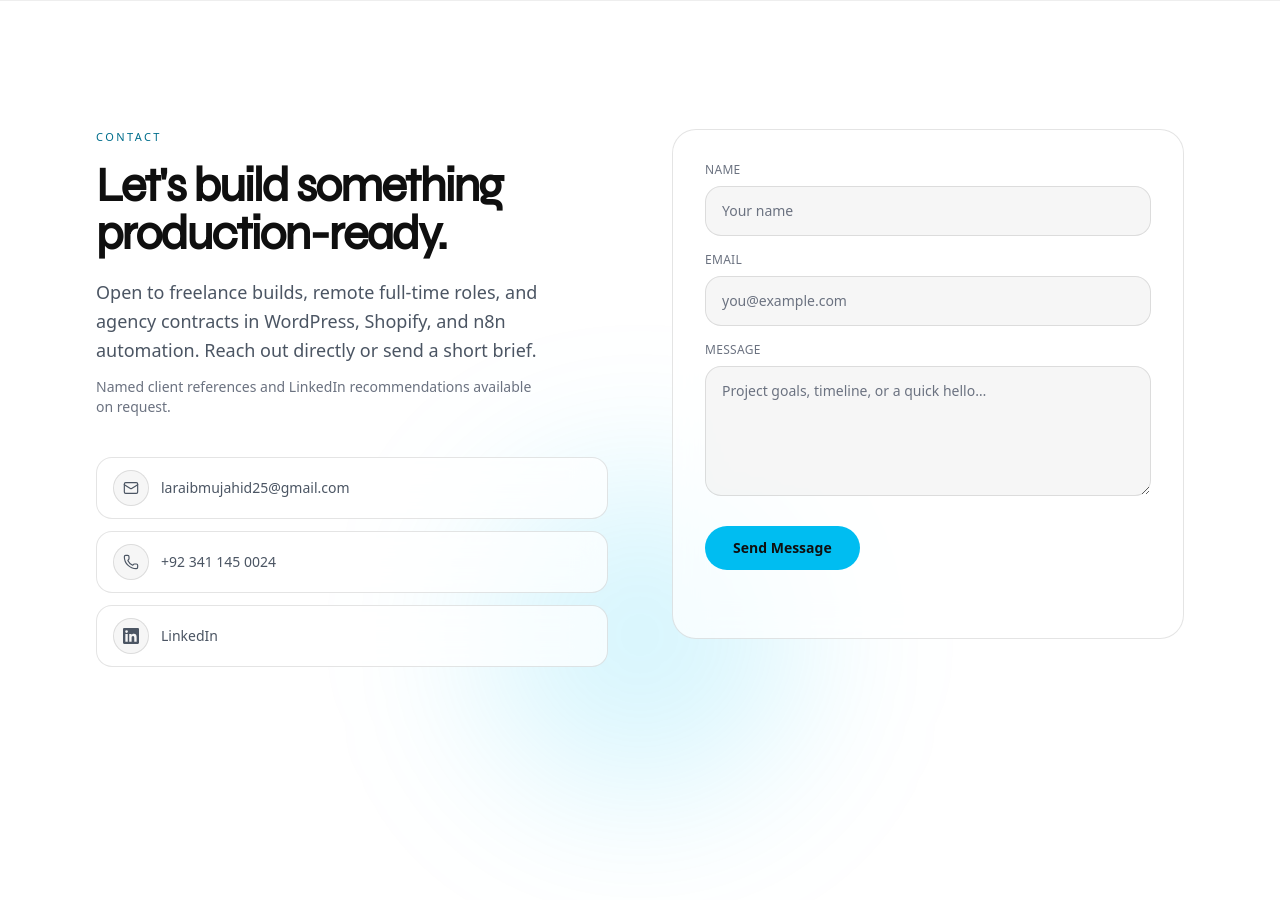
Test: Contact form › posts once and confirms success on a valid submission
Type "Laraib Mujahid" into the field labelled "Name" at (928, 211), box [705, 186, 1151, 236]
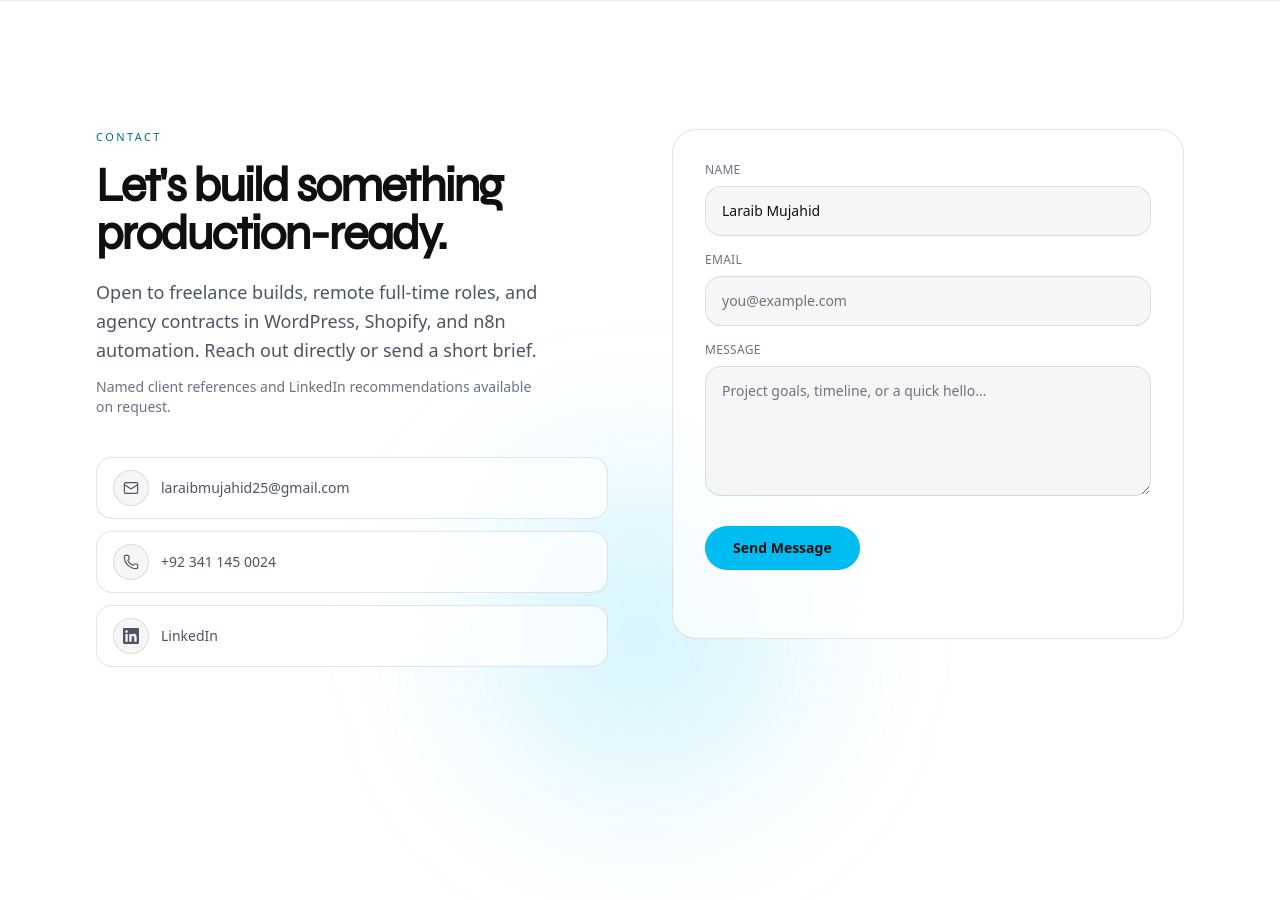
Type "client@example.com" into the field labelled "Email" at (928, 301), box [705, 276, 1151, 326]
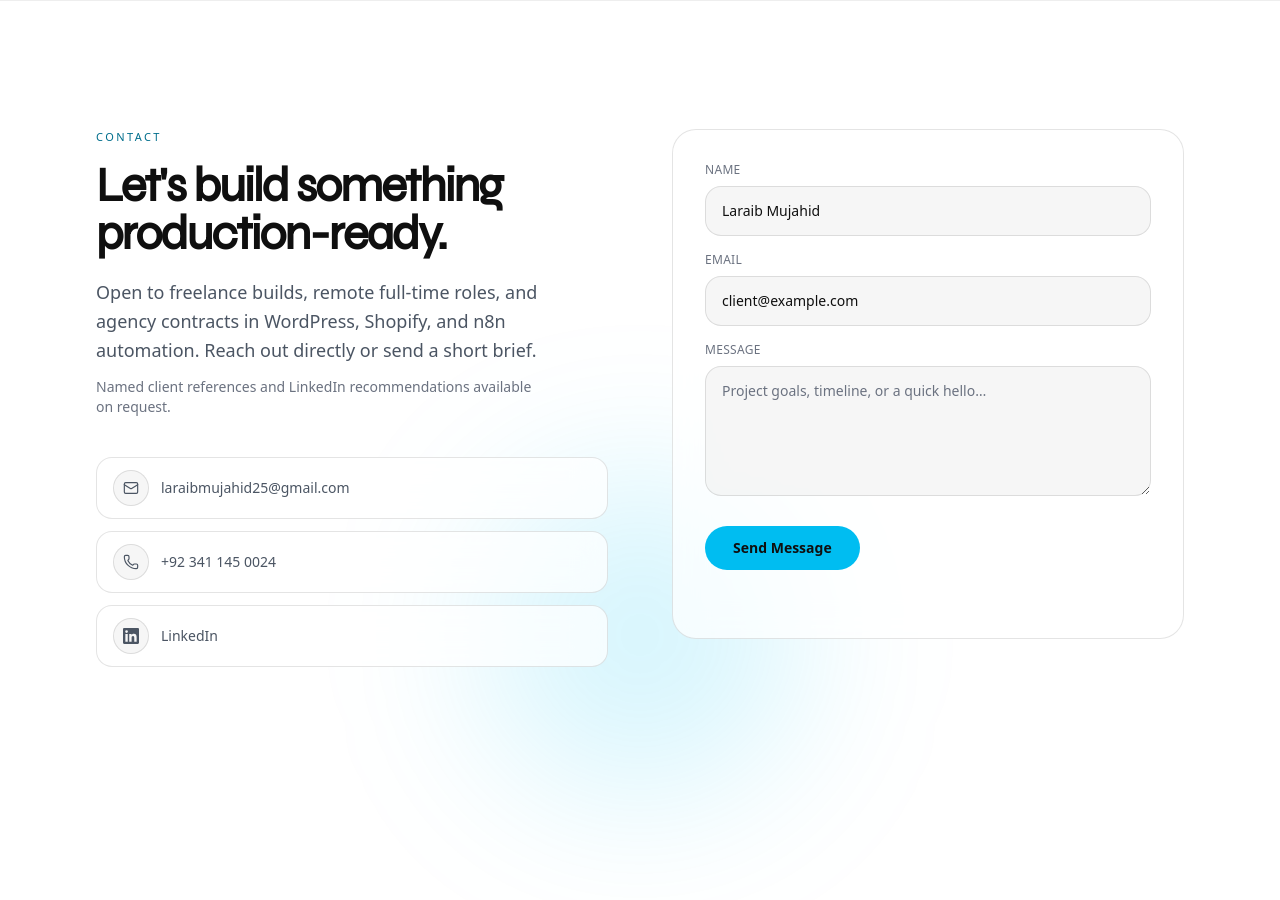
Type "I need a Shopify store customised for launch." into the text box labelled "Message" at (928, 431), box [705, 366, 1151, 496]
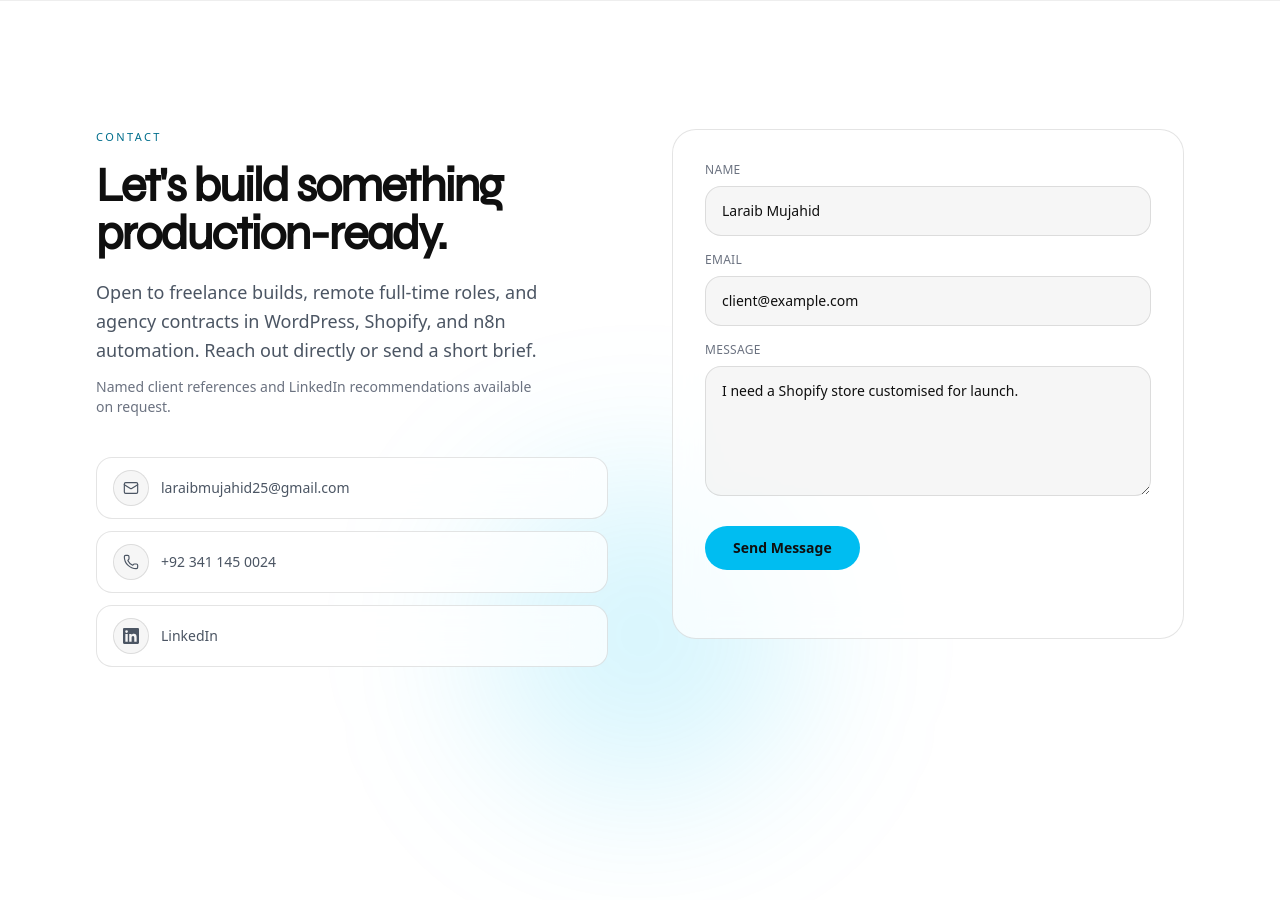
Click the button "Send Message" at (782, 548), box [705, 526, 860, 570]
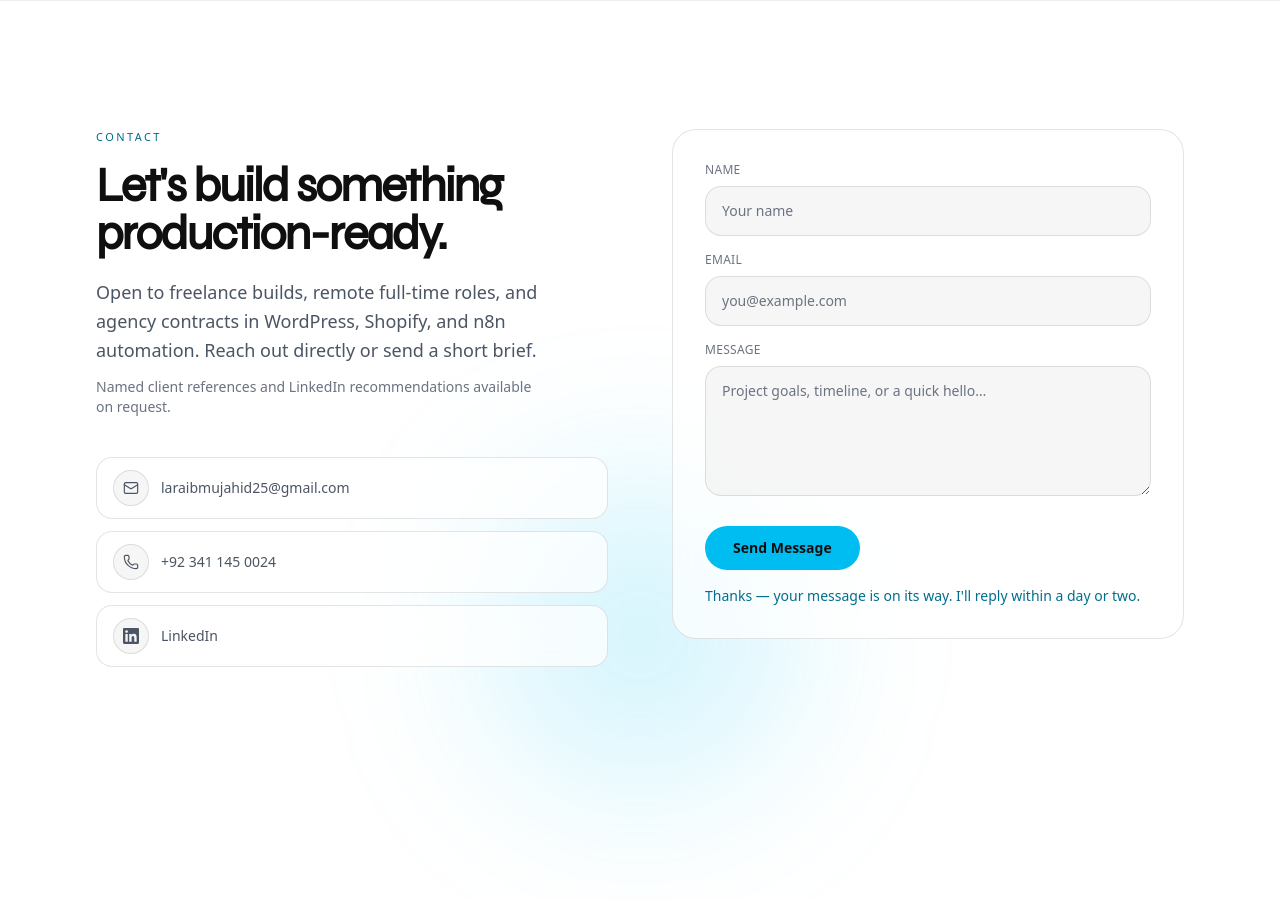
Now the text "on its way" is shown, box [705, 586, 1140, 605]
